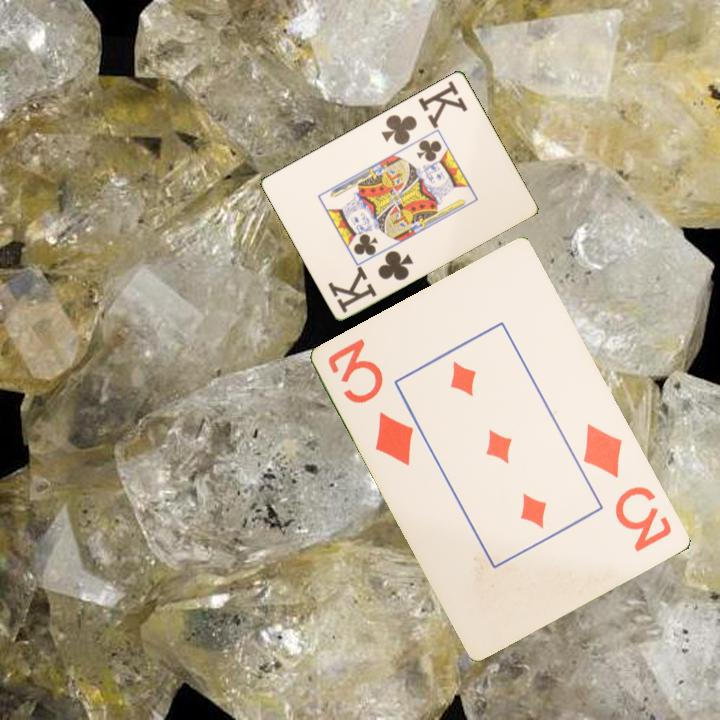3d: (580, 420, 676, 555), (324, 335, 418, 469)
Kc: (378, 76, 471, 148), (325, 246, 416, 315)
